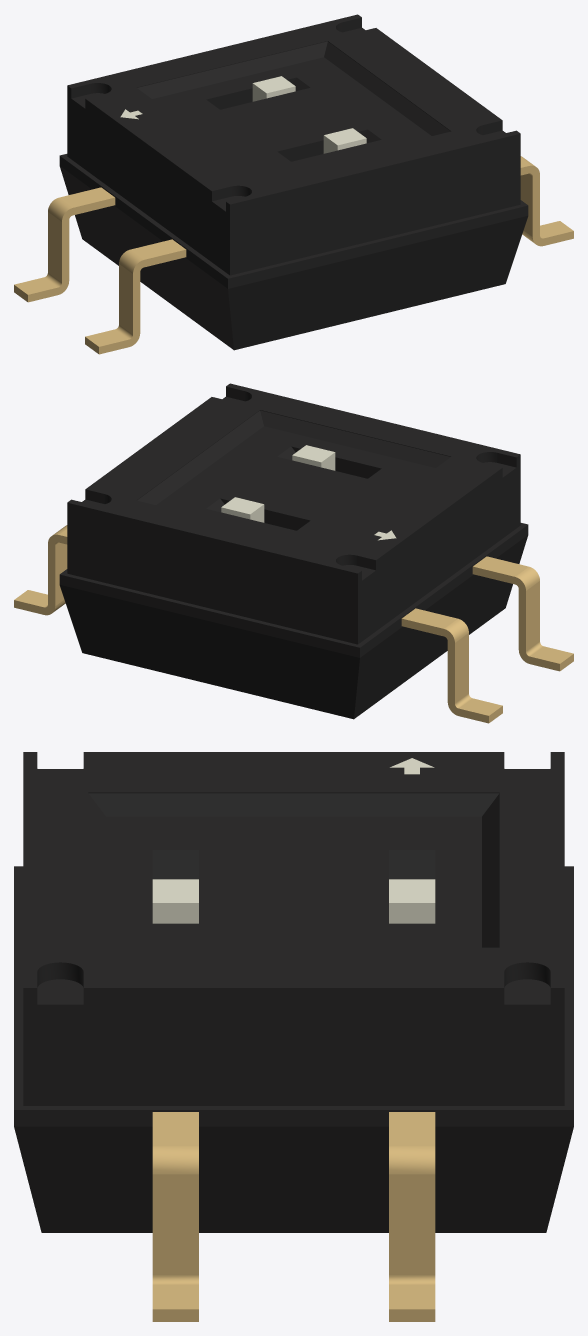
Rendered from kc-sw_dip_spstx02_slide_omron_a6s-210x_w8.9mm_p2.54mm.glb.
3 renders of one model, top to bottom at view 1: azimuth 30°, elevation 25°; view 2: azimuth 150°, elevation 25°; view 3: azimuth 270°, elevation 25°, orthographic. The views are drawn at different scales.
Parts seen in each view (by area): view 1: 0_0_0_0, 0.75_0.5_0.25_0.9, 0.75_0.75_0.6666666666666666_0; view 2: 0_0_0_0, 0.75_0.5_0.25_0.9, 0.75_0.75_0.6666666666666666_0; view 3: 0_0_0_0, 0.75_0.5_0.25_0.9, 0.75_0.75_0.6666666666666666_0.
Boxes of the visible parts, left/top/right/bottom form: 0_0_0_0: left=59, top=14, right=528, bottom=350; 0.75_0.5_0.25_0.9: left=14, top=156, right=573, bottom=354; 0.75_0.75_0.6666666666666666_0: left=120, top=76, right=366, bottom=153; 0_0_0_0: left=59, top=383, right=528, bottom=719; 0.75_0.5_0.25_0.9: left=14, top=525, right=573, bottom=723; 0.75_0.75_0.6666666666666666_0: left=221, top=445, right=396, bottom=540; 0_0_0_0: left=14, top=752, right=573, bottom=1232; 0.75_0.5_0.25_0.9: left=152, top=1112, right=435, bottom=1321; 0.75_0.75_0.6666666666666666_0: left=152, top=758, right=435, bottom=923.
Size of the model in its own units: 0.98 by 0.3075 by 0.602.
